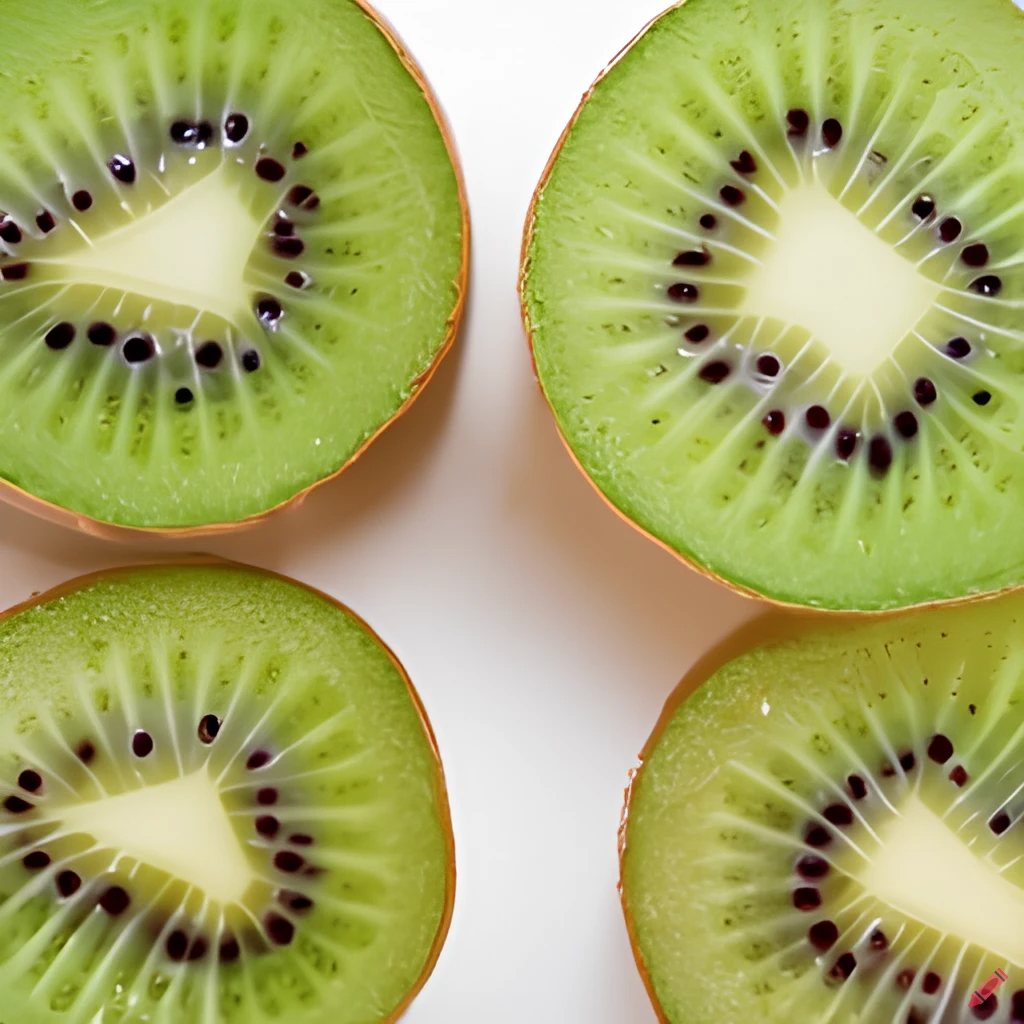Kiwi: (0, 0, 472, 582)
